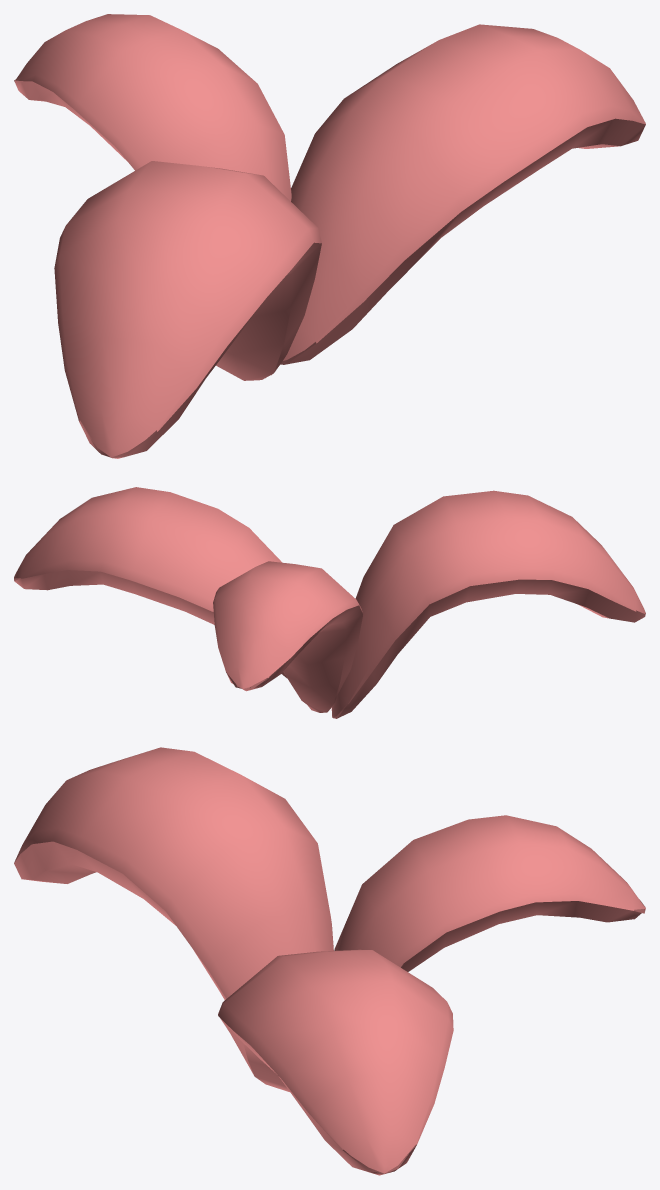
File: Plant2_Red.fbx
3 views of the same model, one above another, from view 1: azimuth 30°, elevation 25°; view 2: azimuth 150°, elevation 25°; view 3: azimuth 270°, elevation 25° (orthographic). The views are drawn at different scales.
Parts seen in each view (by area): view 1: plantB_forest 1.001; view 2: plantB_forest 1.001; view 3: plantB_forest 1.001.
Part boxes in pixels (box(x1,y1,x2,y2)): plantB_forest 1.001: box(14, 14, 645, 458); plantB_forest 1.001: box(14, 487, 645, 718); plantB_forest 1.001: box(14, 747, 645, 1175).
Bounding box in the file's own units: 4.04 × 1.52 × 3.29.
